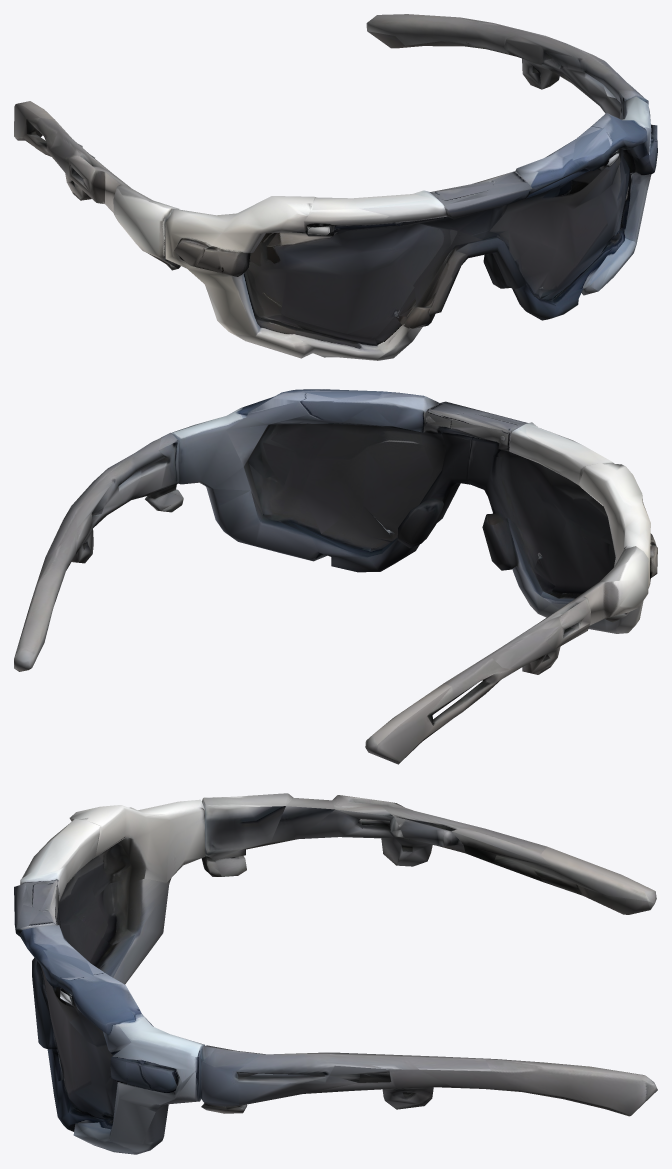
The model's file is gafas_sol.glb.
3 views of the same model, one above another, from view 1: azimuth 30°, elevation 25°; view 2: azimuth 150°, elevation 25°; view 3: azimuth 270°, elevation 25° (orthographic). The views are drawn at different scales.
Visible parts, largest first — view 1: gafas_sol; view 2: gafas_sol; view 3: gafas_sol.
Part boxes in pixels (<box>): gafas_sol: <box>14,14,657,360</box>; gafas_sol: <box>14,389,657,764</box>; gafas_sol: <box>14,793,657,1154</box>.
Bounding box in the file's own units: 0.1982 × 0.0634 × 0.1993.
1 material, 1 textured.
